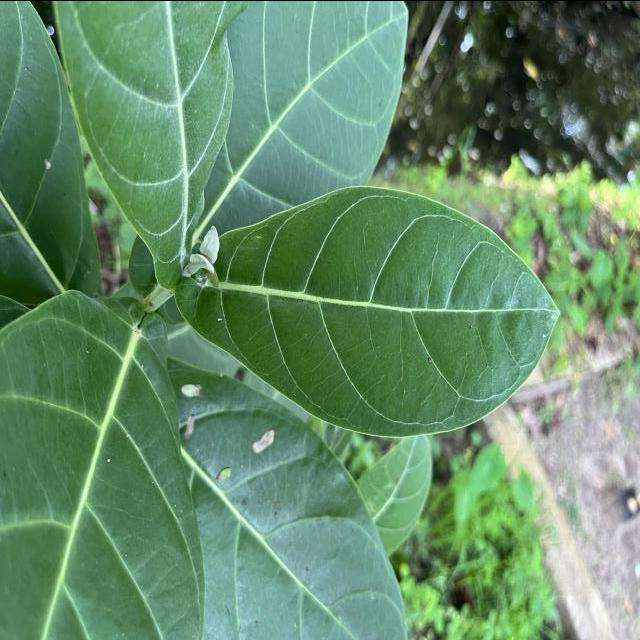Calotropis gigantea: (172, 180, 564, 442), (198, 0, 412, 231)
